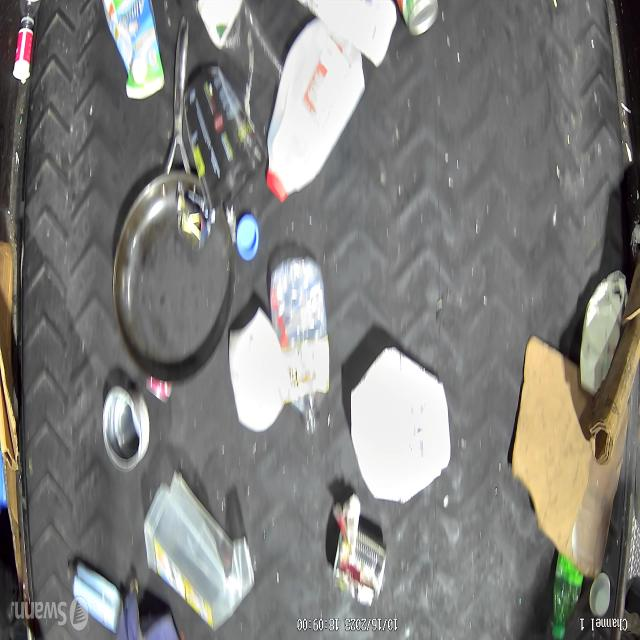can: (102, 383, 150, 473), (335, 531, 387, 610)
milk_jug: (265, 25, 368, 202), (352, 340, 452, 504)
plastic_bottle: (271, 264, 329, 442)
